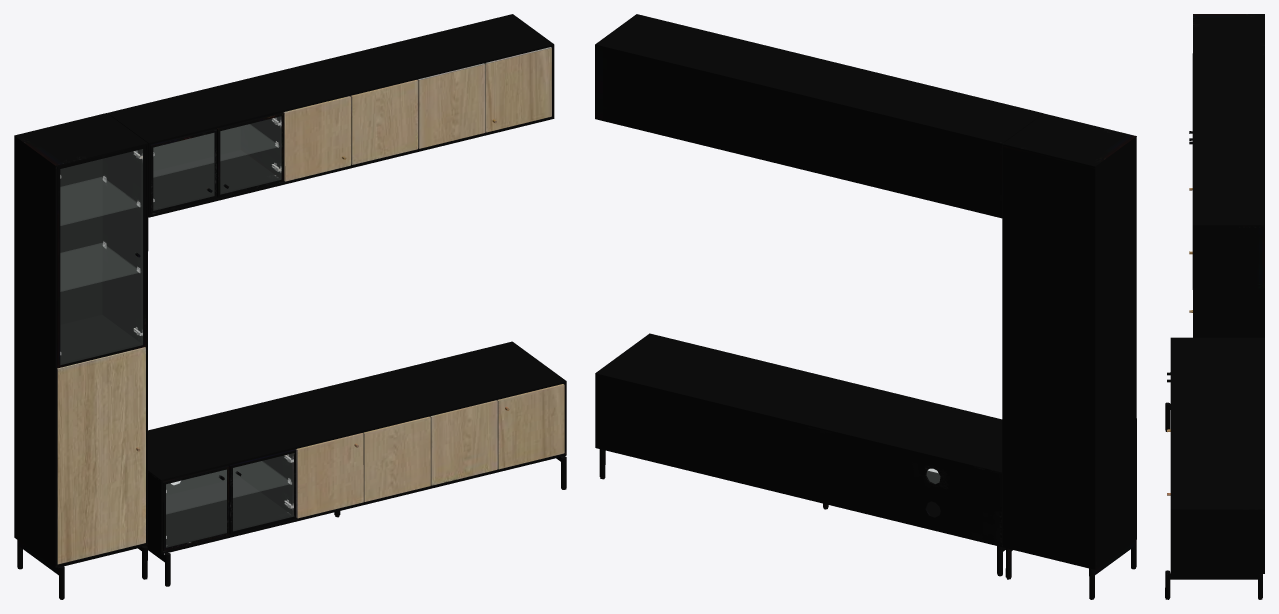
3 renders of one model, left to right at view 1: azimuth 30°, elevation 25°; view 2: azimuth 150°, elevation 25°; view 3: azimuth 270°, elevation 25°, orthographic. The views are drawn at different scales.
Parts seen in each view (by area): view 1: Mesh_0, Mesh_1; view 2: Mesh_0; view 3: Mesh_0.
Boxes of the visible parts, box(x1,y1,x2,y2) form: Mesh_0: box(14, 14, 566, 599); Mesh_1: box(60, 117, 293, 547); Mesh_0: box(595, 14, 1136, 599); Mesh_0: box(1165, 14, 1264, 599).
Bounding box in the file's own units: 2.23 × 1.85 × 0.4455.
2 materials, 1 textured.
